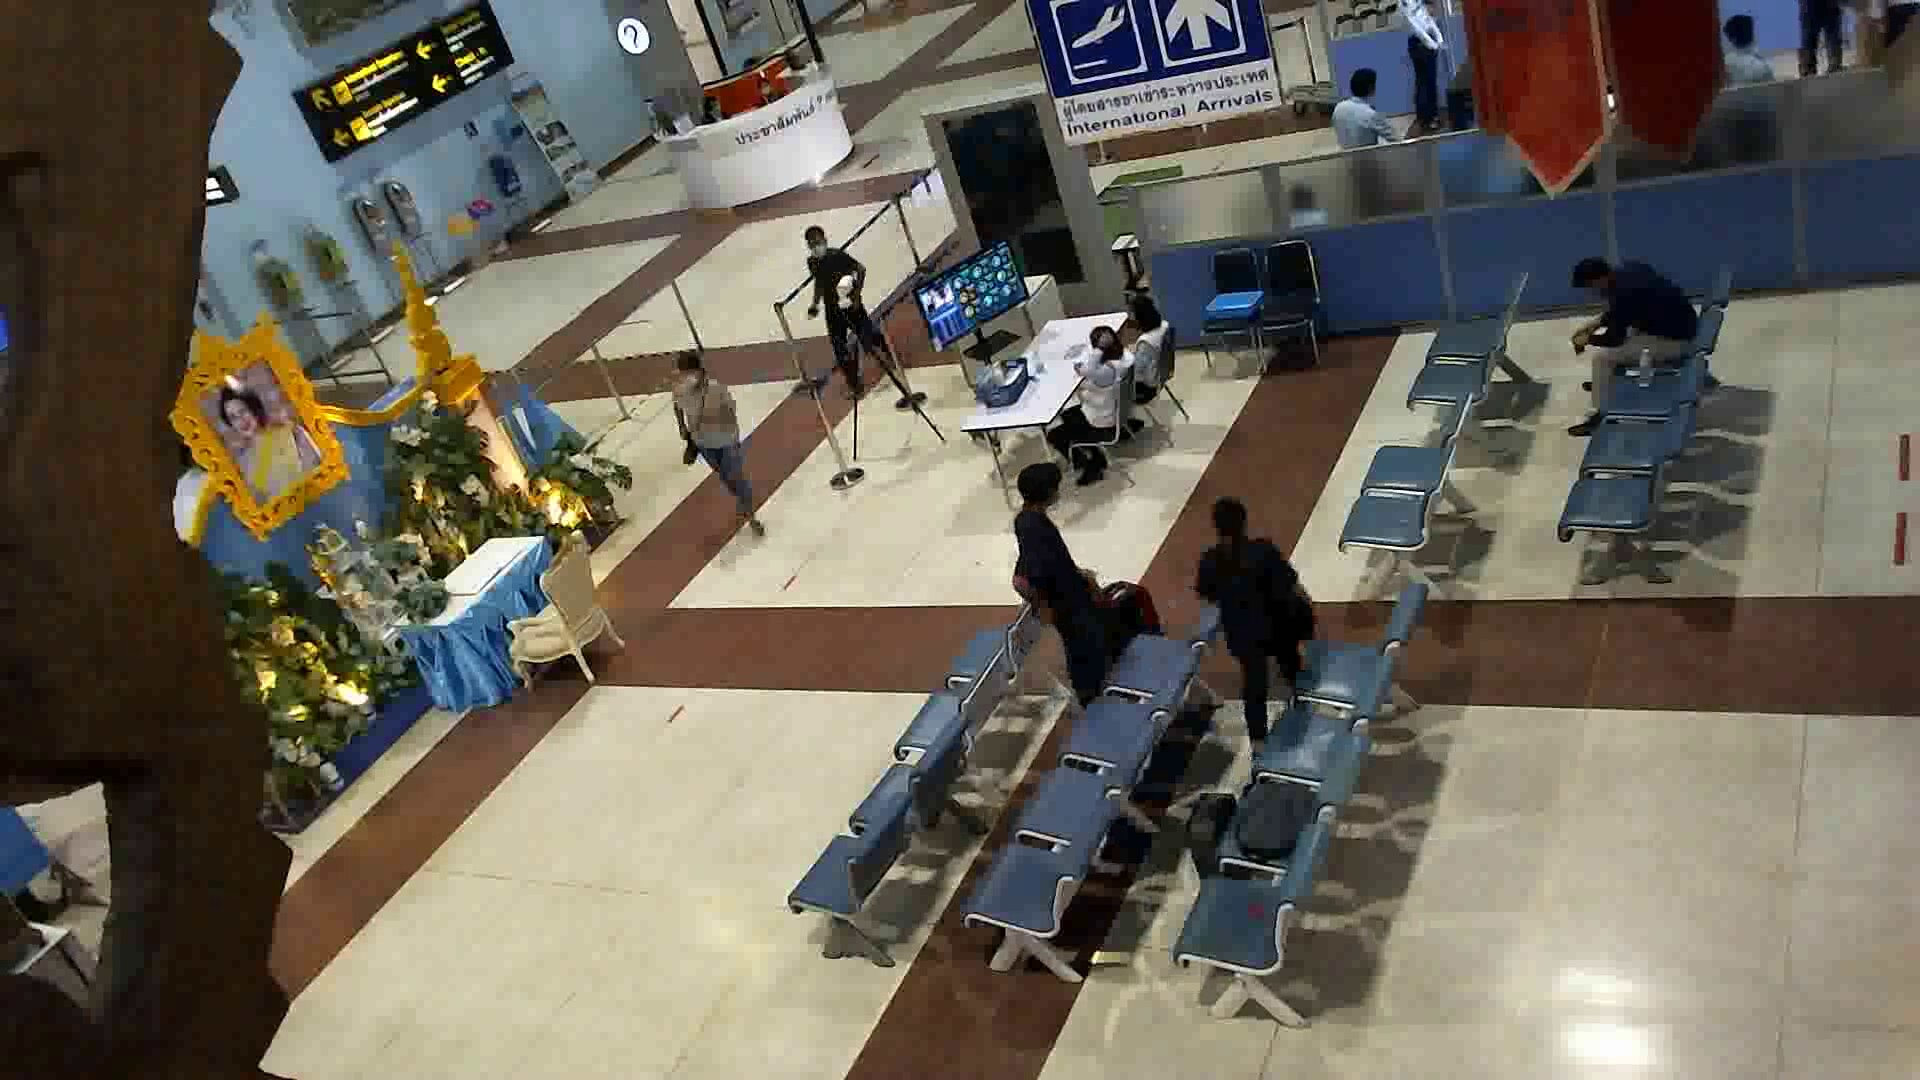backpack: (1231, 759, 1328, 874)
luggage: (1189, 774, 1251, 920), (1101, 561, 1160, 686)
people: (1183, 488, 1333, 761), (1004, 457, 1120, 736), (1568, 245, 1703, 457), (785, 197, 897, 415), (658, 349, 766, 566), (1051, 330, 1143, 488), (1114, 288, 1179, 428)
